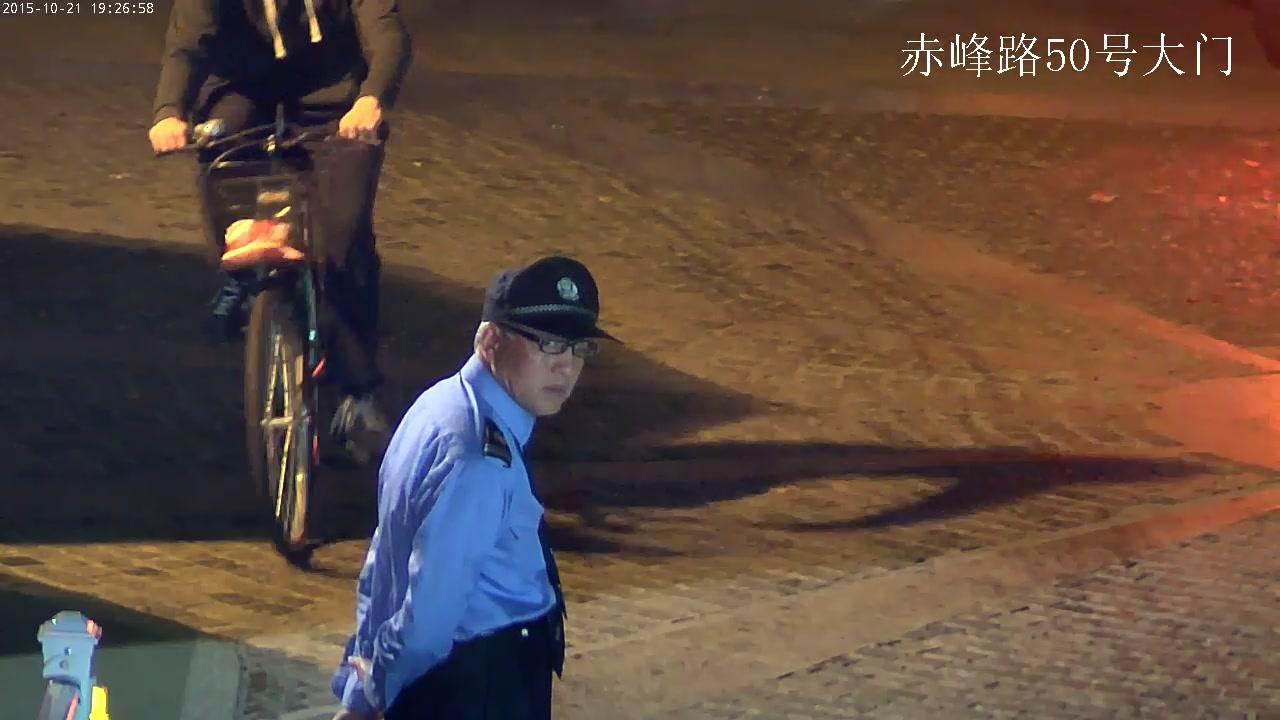face: (500, 325, 589, 415)
